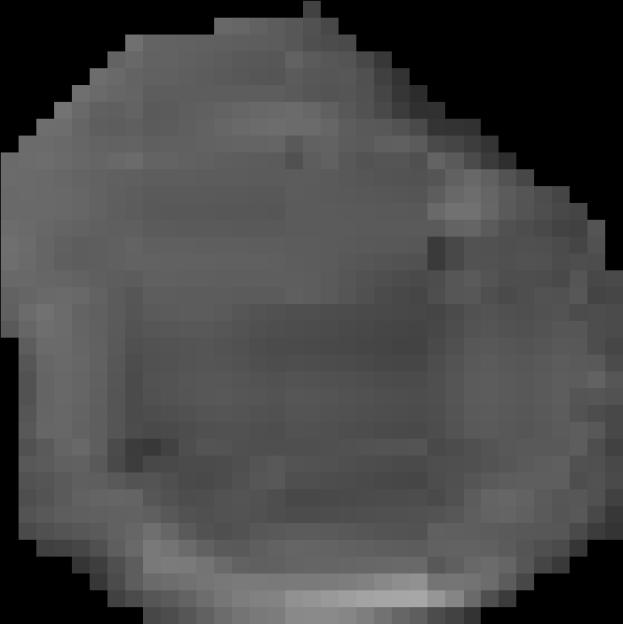tumor_good_chance: (1, 1, 623, 624)
